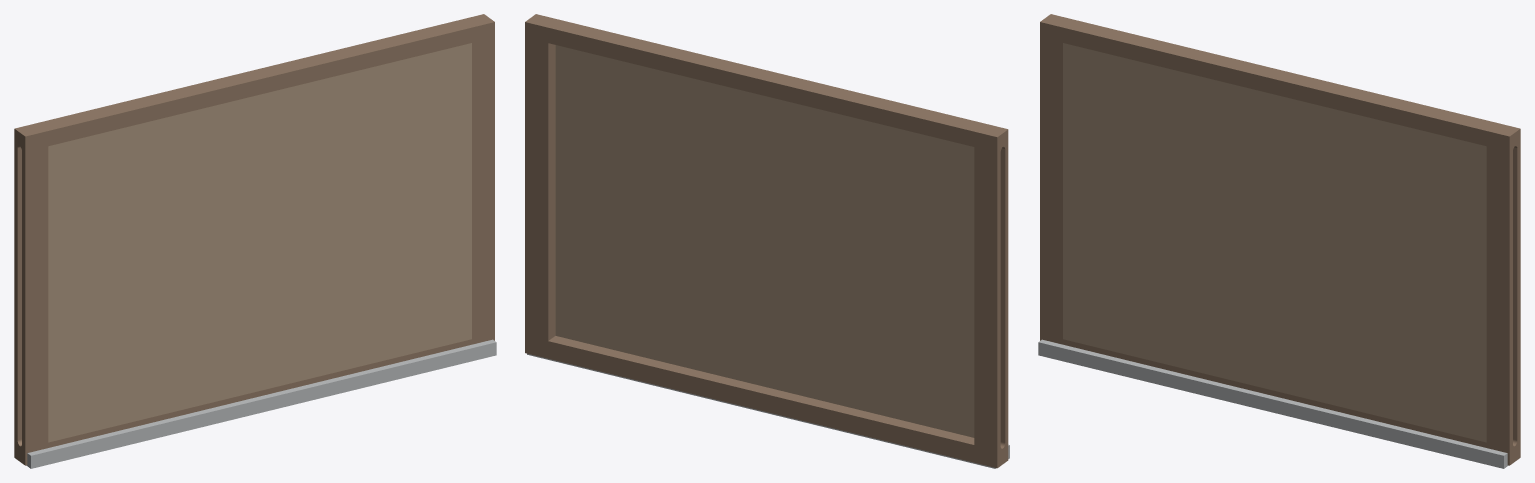
The model's file is door-leaf.glb.
The picture shows the model from 3 angles, left to right: view 1: azimuth 30°, elevation 25°; view 2: azimuth 150°, elevation 25°; view 3: azimuth 330°, elevation 25°; orthographic projection.
Parts seen in each view (by area): view 1: Plywood-infill-6, Stile-L, Top-rail, Edge-pull, Stile-R, Bottom-rail; view 2: Plywood-infill-6, Stile-L, Top-rail, Bottom-rail, Stile-R, Edge-pull; view 3: Plywood-infill-6, Stile-R, Top-rail, Edge-pull, Stile-L, Bottom-rail.
Boxes of the visible parts, x1,y1,x2,y2 form: Plywood-infill-6: [48, 43, 471, 442]; Stile-L: [14, 123, 48, 465]; Top-rail: [38, 19, 471, 146]; Edge-pull: [26, 339, 496, 468]; Stile-R: [461, 14, 494, 344]; Bottom-rail: [48, 339, 471, 447]; Plywood-infill-6: [555, 45, 974, 437]; Stile-L: [974, 123, 1008, 468]; Top-rail: [548, 19, 984, 146]; Bottom-rail: [548, 336, 974, 462]; Stile-R: [525, 14, 558, 358]; Edge-pull: [527, 353, 1009, 468]; Plywood-infill-6: [1063, 43, 1486, 442]; Stile-R: [1486, 123, 1520, 465]; Top-rail: [1063, 19, 1496, 146]; Edge-pull: [1038, 339, 1508, 468]; Stile-L: [1040, 14, 1073, 344]; Bottom-rail: [1063, 339, 1486, 447].
Size of the model in its own units: 0.448 by 0.301 by 0.024.
